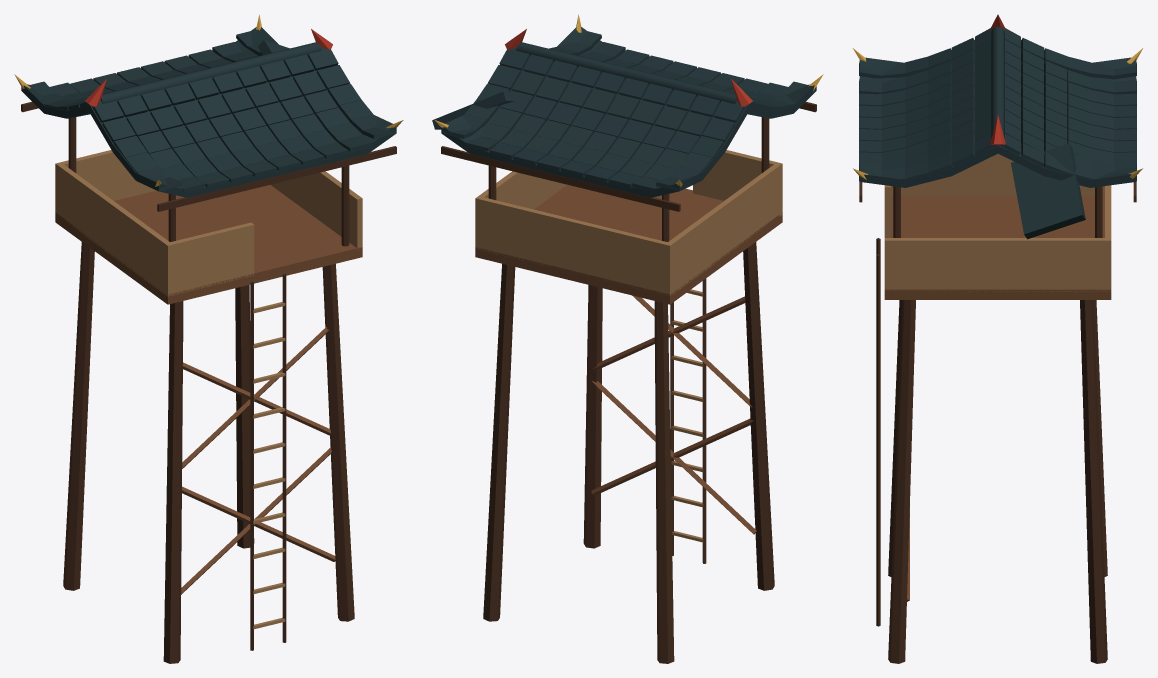
The model's file is watchtower.glb.
3 views of the same model, side by side, from view 1: azimuth 30°, elevation 25°; view 2: azimuth 150°, elevation 25°; view 3: azimuth 270°, elevation 25° (orthographic).
Parts seen in each view (by area): view 1: Watchtower; view 2: Watchtower; view 3: Watchtower.
Part boxes in pixels (left/top/right/bottom): Watchtower: left=14, top=14, right=403, bottom=663; Watchtower: left=432, top=14, right=823, bottom=663; Watchtower: left=853, top=14, right=1142, bottom=663.
Size of what is drawn, in the model's own units: 5.13 by 9.71 by 4.62.
